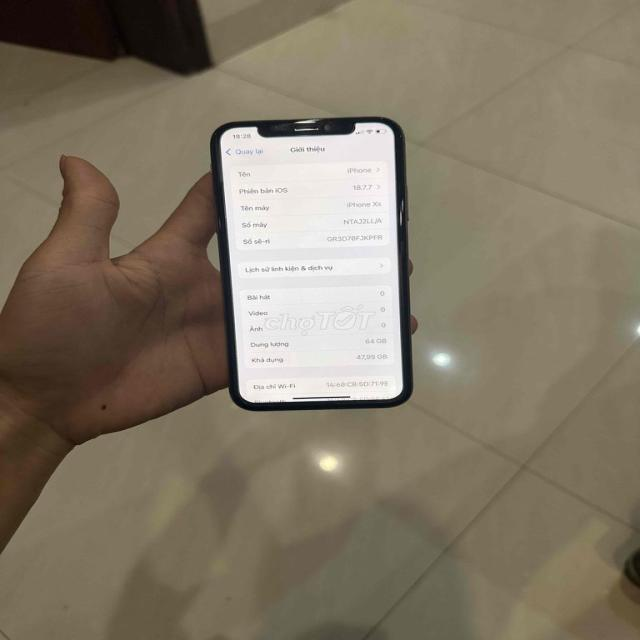gen_x_xs: (207, 113, 425, 420)
